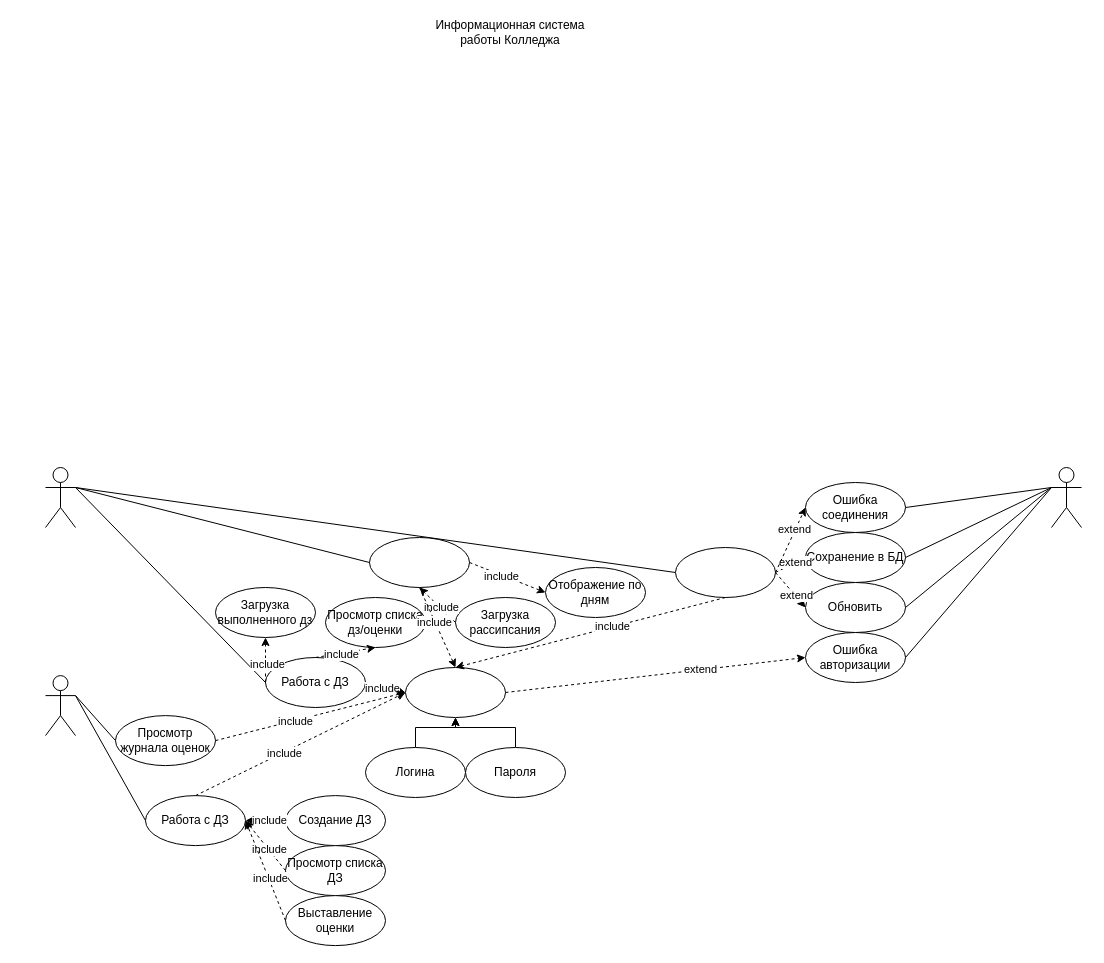
Image size: 1104x963. Some labels were removed from this diagram. Here are the shapes that lost their labels. From the top down, the centre of each, then its label:
At [60,497]: "Пользователь".
At [1066,497]: "Сервер".
At [419,562]: "Просмотр рассписания".
At [725,572]: "Синхронизация".
At [60,705]: "Преподаватель".
At [455,692]: "Авторизация".
